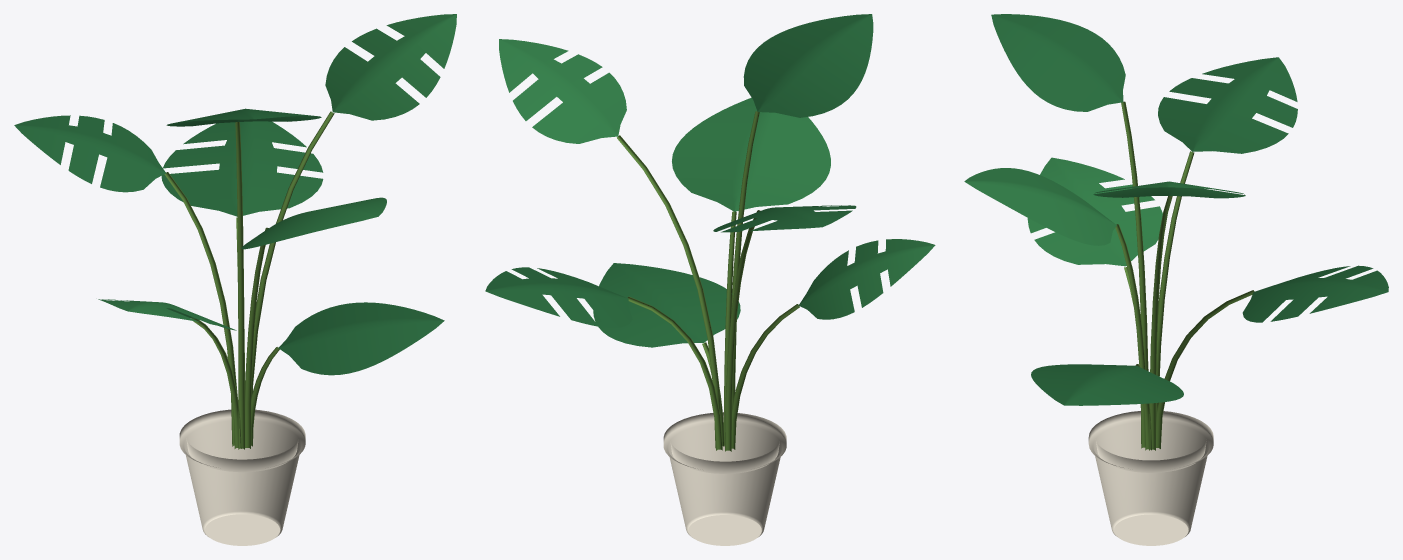
File: monstera_cream_S.glb
The picture shows the model from 3 angles, left to right: view 1: azimuth 30°, elevation 25°; view 2: azimuth 150°, elevation 25°; view 3: azimuth 270°, elevation 25°; orthographic projection. The views are drawn at different scales.
Visible parts, largest first — view 1: Monstera (cream, S); view 2: Monstera (cream, S); view 3: Monstera (cream, S).
Boxes of the visible parts, bbox=[...] form: Monstera (cream, S): bbox=[14, 14, 456, 545]; Monstera (cream, S): bbox=[485, 14, 935, 545]; Monstera (cream, S): bbox=[964, 14, 1388, 545].
Bounding box in the file's own units: 0.5427 × 0.6502 × 0.5193.
